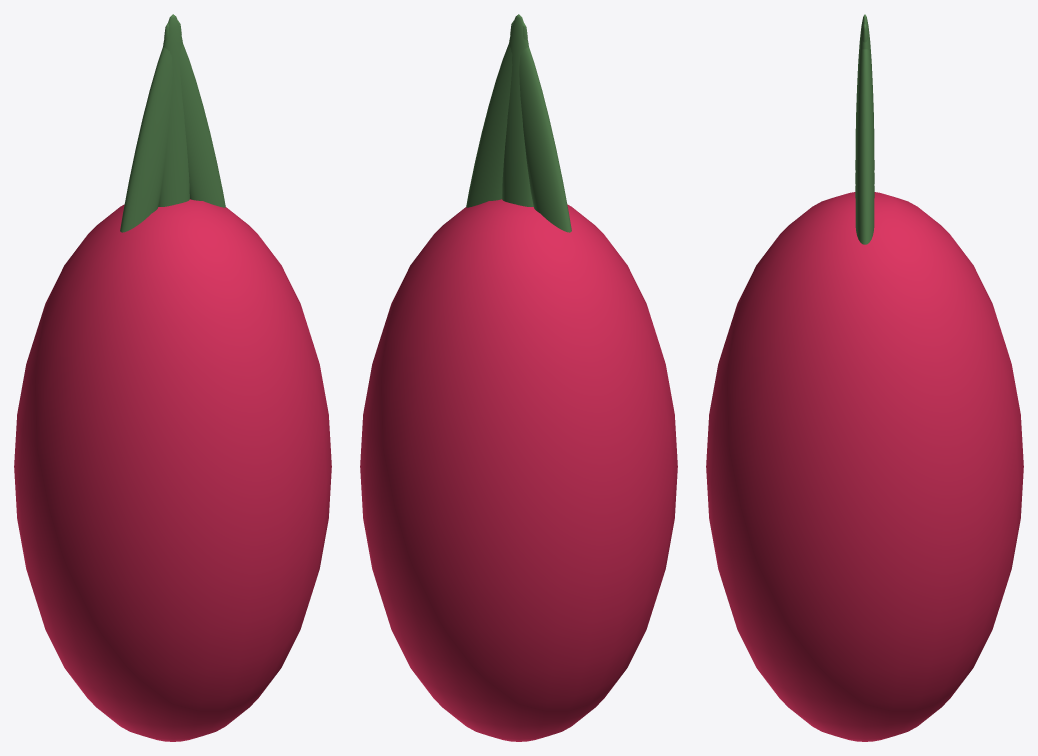
File: wp-radis-rose.glb
3 renders of one model, left to right at view 1: azimuth 30°, elevation 25°; view 2: azimuth 150°, elevation 25°; view 3: azimuth 270°, elevation 25°, orthographic.
Visible parts, largest first — view 1: wp-radis-rose; view 2: wp-radis-rose; view 3: wp-radis-rose.
Boxes of the visible parts, left/top/right/bottom form: wp-radis-rose: left=14, top=14, right=331, bottom=741; wp-radis-rose: left=360, top=14, right=677, bottom=741; wp-radis-rose: left=706, top=14, right=1023, bottom=741.
Bounding box in the file's own units: 0.04 × 0.1 × 0.04.
